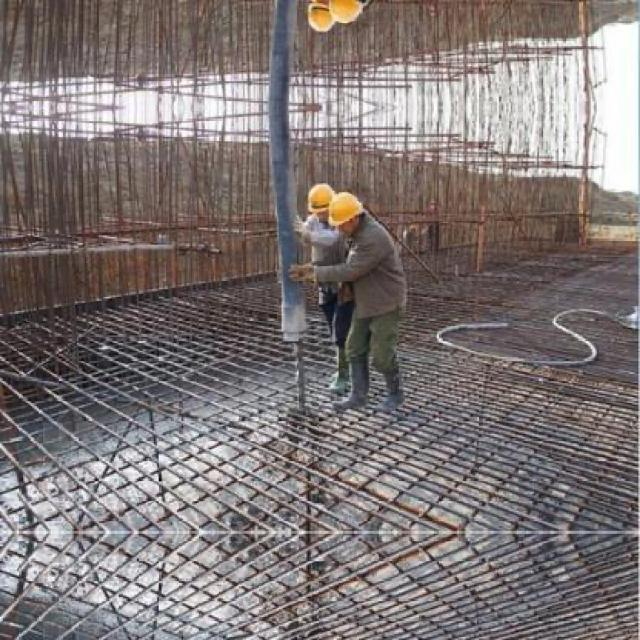con casco: (319, 174, 382, 258), (294, 170, 345, 237)
